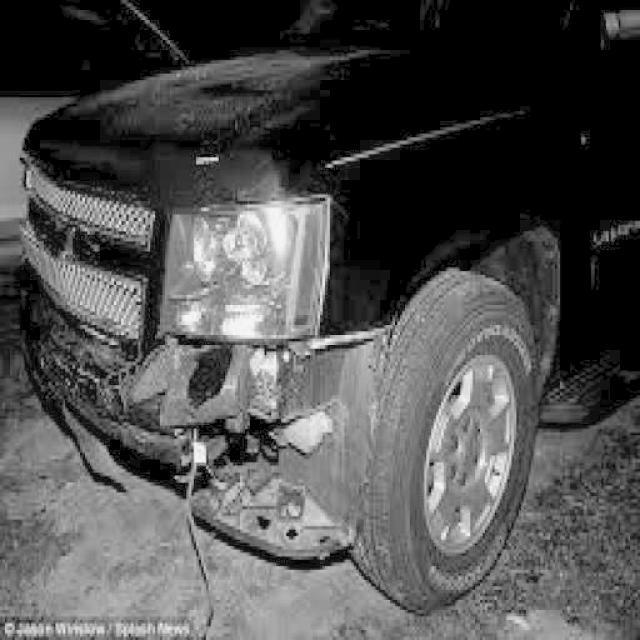car damage: (15, 273, 384, 561)
